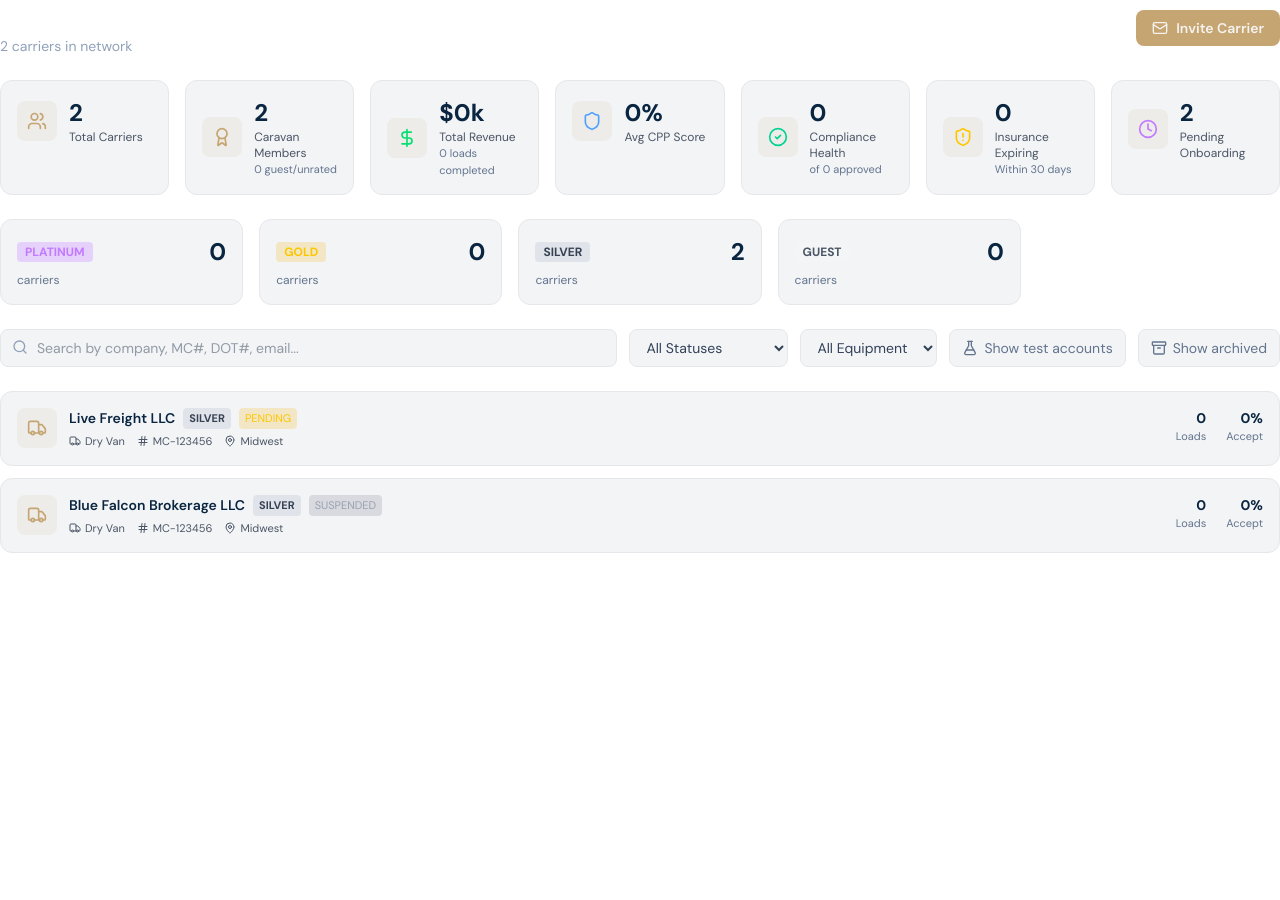
Test: Lift suspension — the exit from SUSPENDED › lifting shows the suspension on record, posts the reason, and reports REVIEWING
The image size is (1280, 900).
Expected: the text "Blue Falcon Brokerage LLC" is shown, [69,495,245,515]
Click the button "Blue Falcon Brokerage LLC" at (37, 515), box [0,478,1279,553]
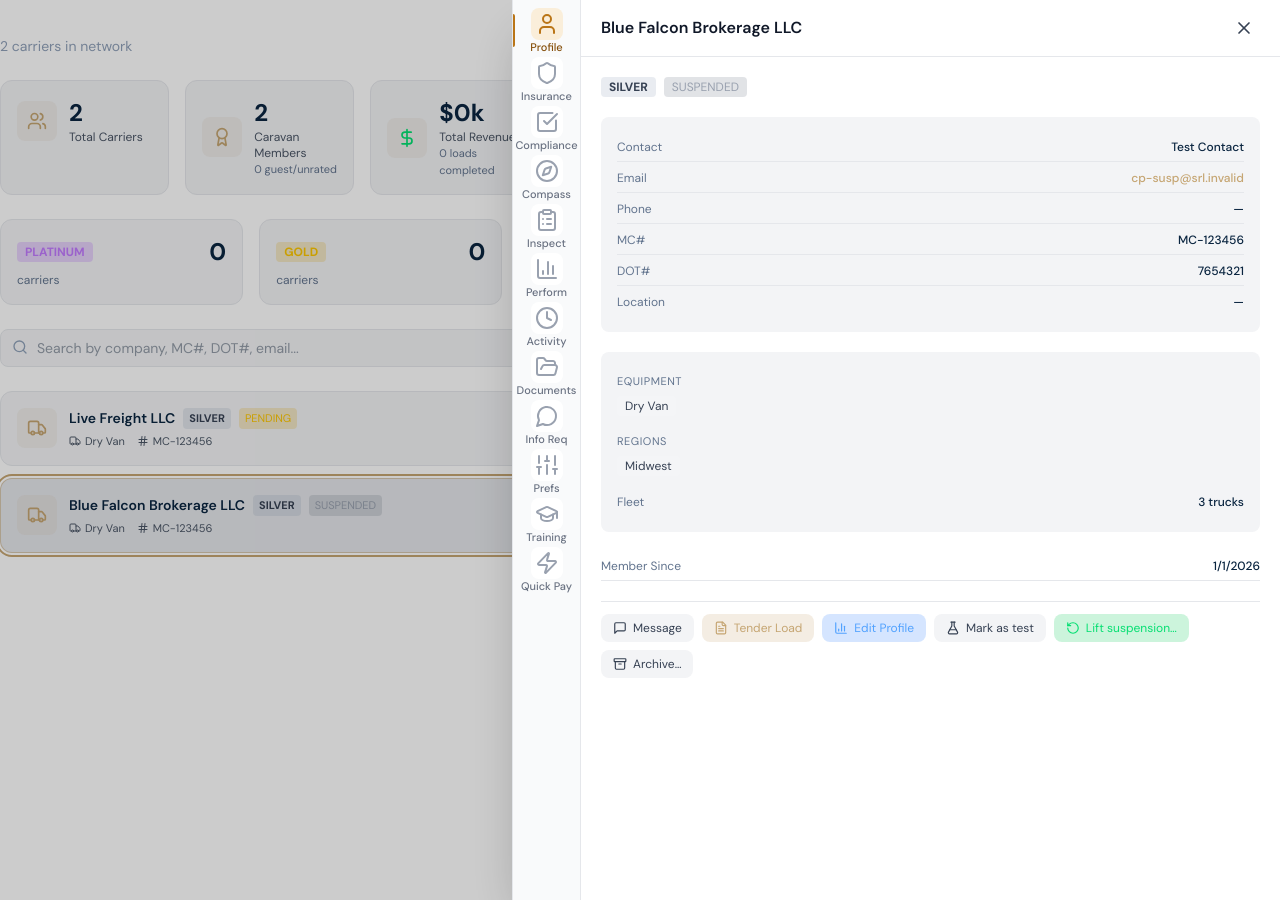
Click the button "Lift suspension…" at (1121, 628), box [1054,614,1189,642]
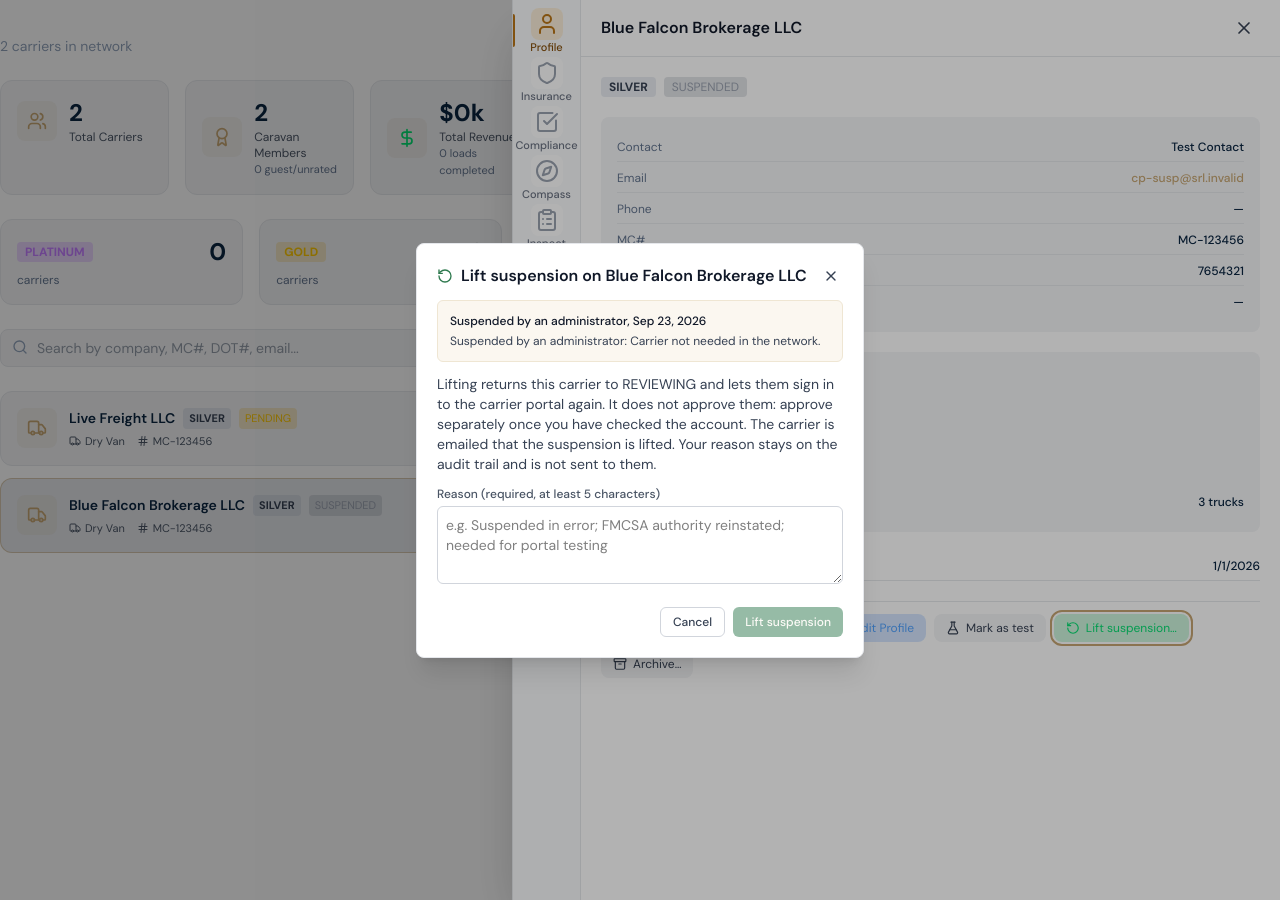
Result: the dialog "Lift suspension on Blue Falcon Brokerage LLC" shows "Carrier not needed in the network" at [450,332,820,348]
Type "Needed for carrier portal testing" into the text box labelled "Reason (required, at least 5 characters)" at (640, 544), box [437,506,843,584]
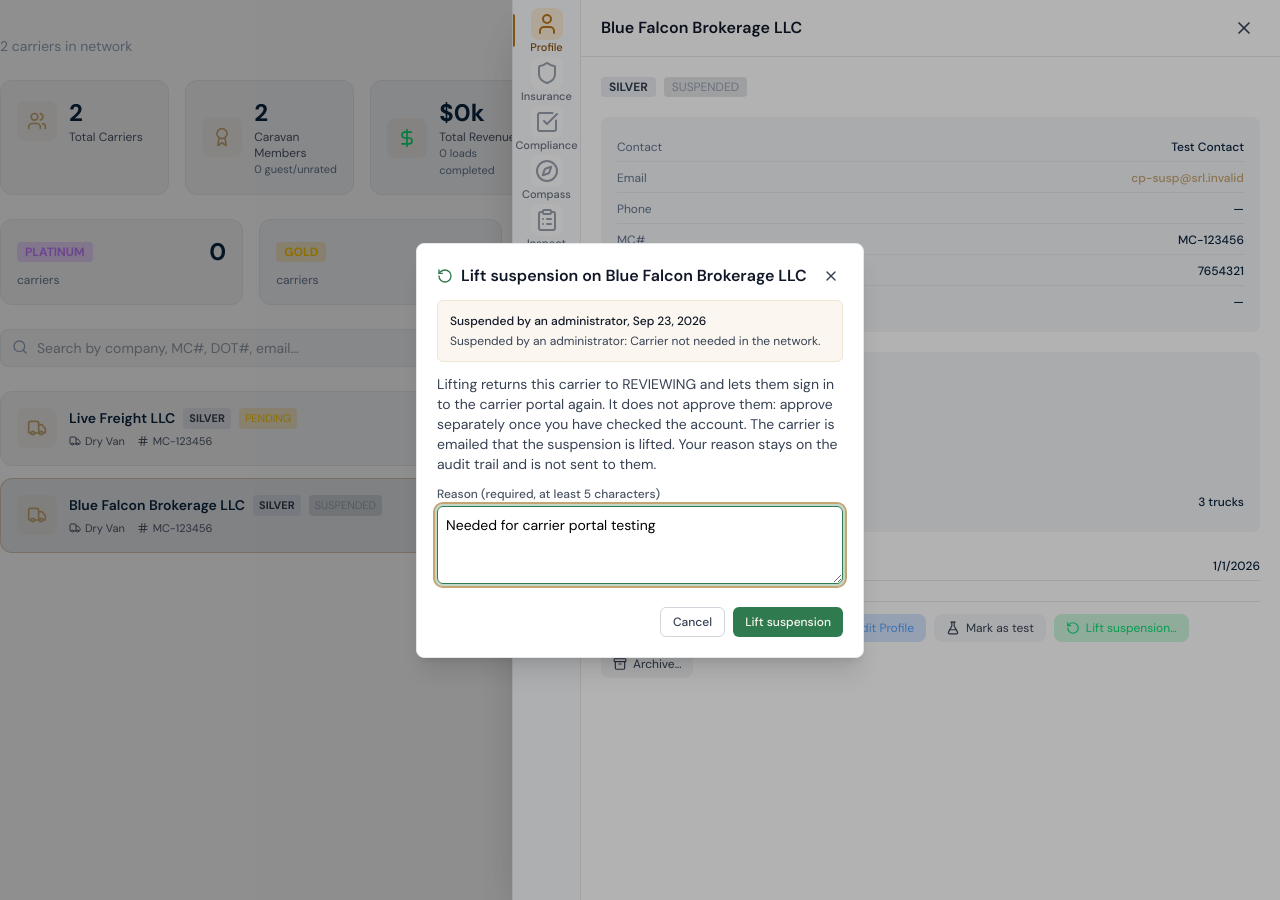
Click the button "Lift suspension" at (788, 622), box [733,606,843,636]
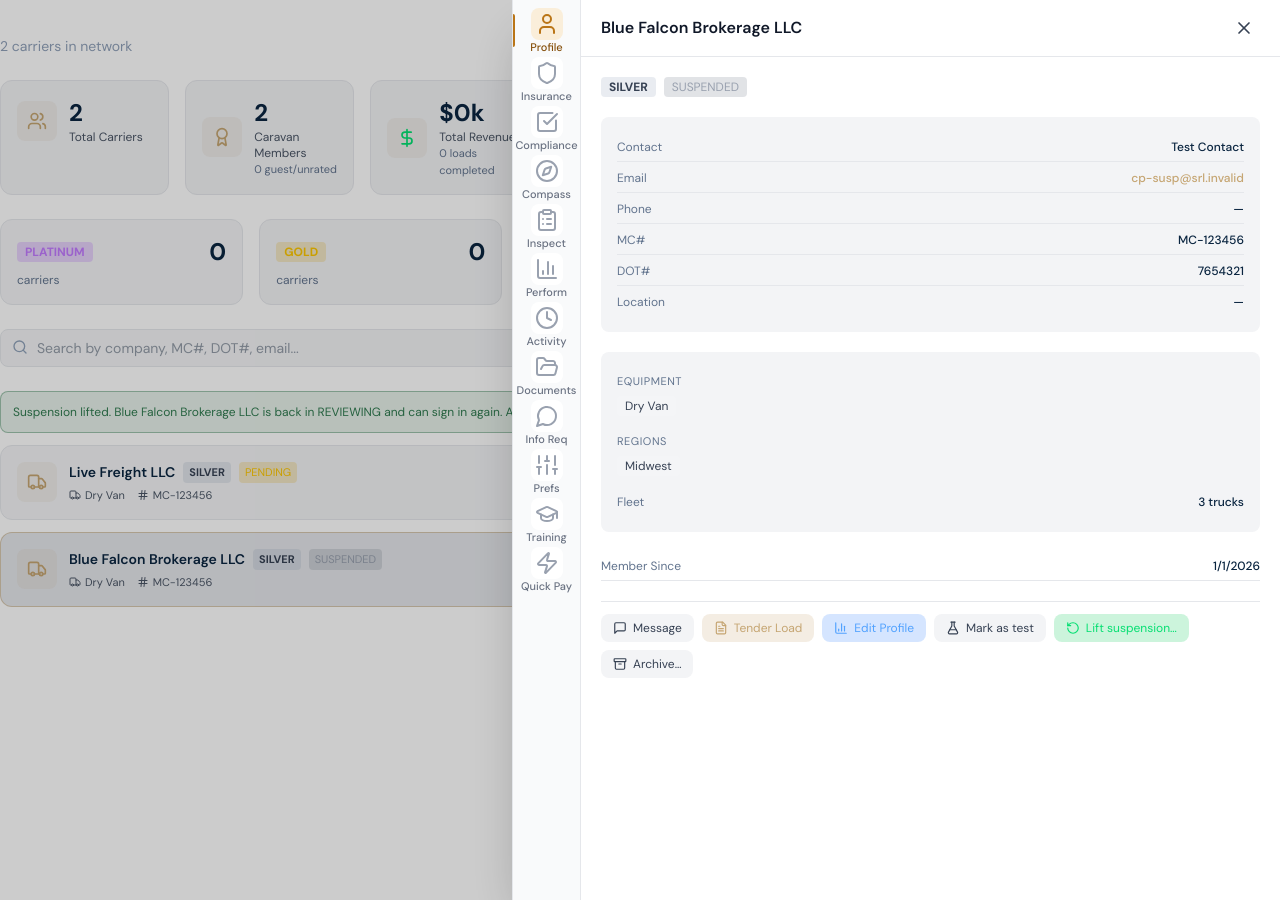
Result: the message shows "REVIEWING" at [13,404,677,420]
Result: the message shows "Approve it" at [13,404,677,420]
